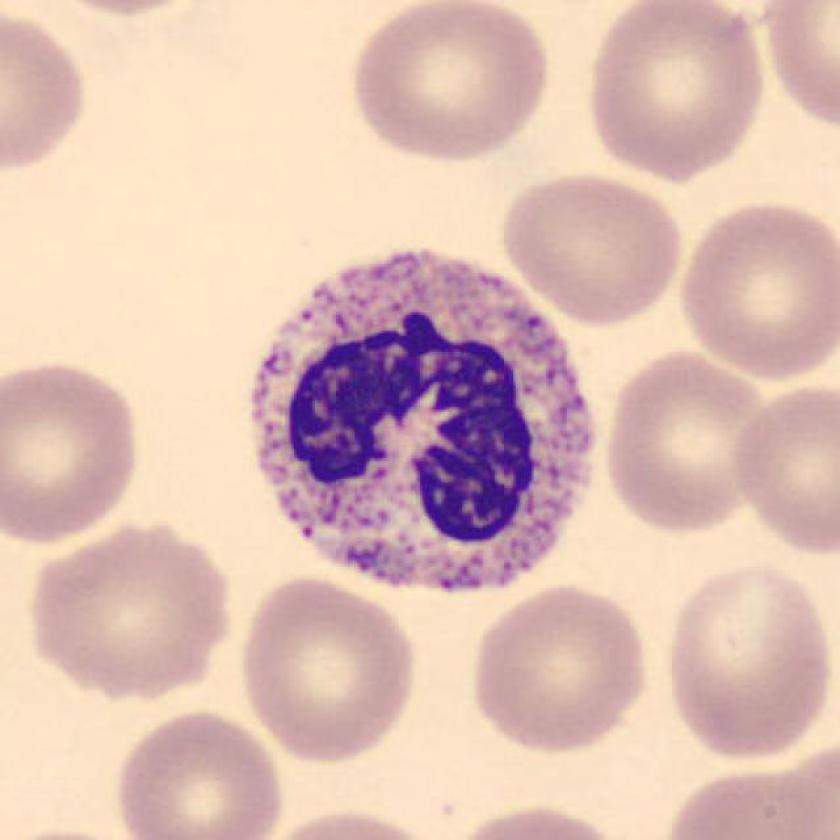neutrophil: (252, 254, 596, 592)
